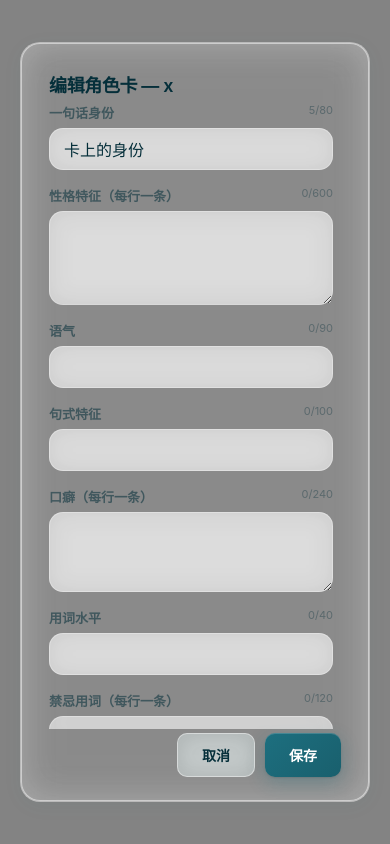
Test: 不多做 › E8 保存失败 → 弹窗不关，用户填的内容还在
Replace the text in the field showing "卡上的身份" below "一句话身份" with "填到一半" at (191, 149), box [49, 128, 333, 170]
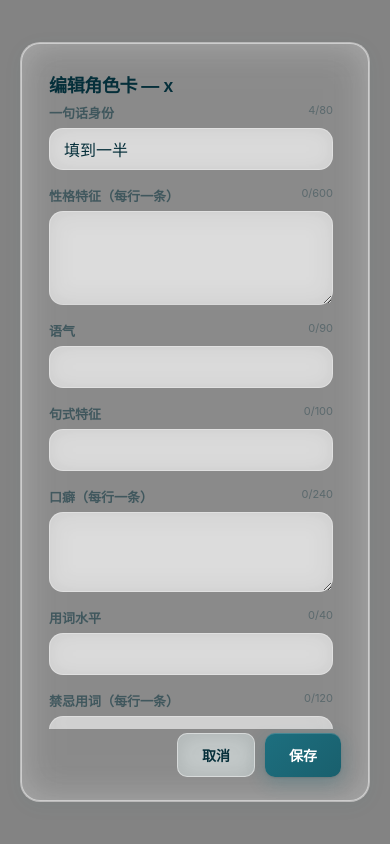
Click the button "保存" at (303, 755), box [265, 733, 341, 777]
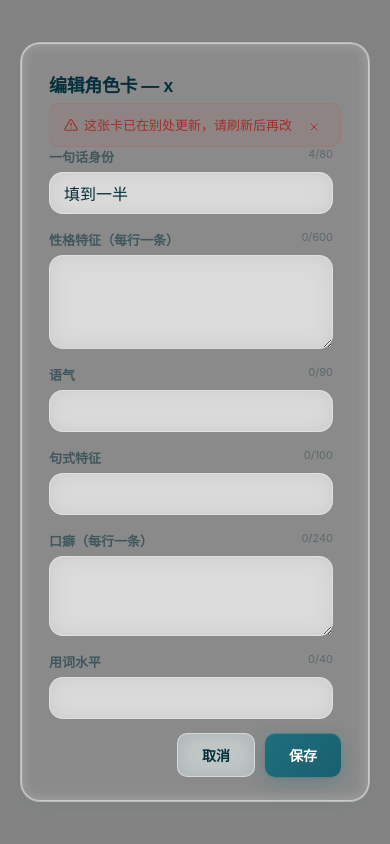
Expected: the text "这张卡已在别处更新，请刷新后再改" is shown, [64, 114, 294, 136]
